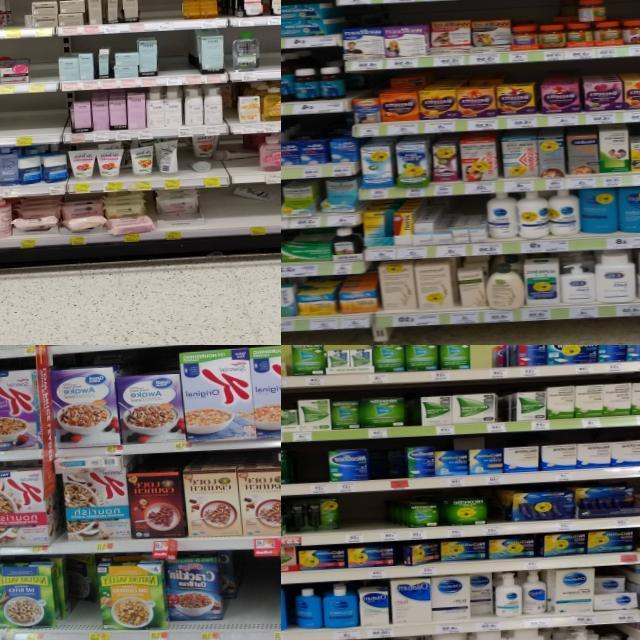Imprecise: (10, 211, 154, 236), (590, 568, 640, 608), (157, 190, 202, 232), (470, 569, 502, 626), (188, 134, 222, 174), (229, 178, 273, 208), (215, 148, 256, 163)
